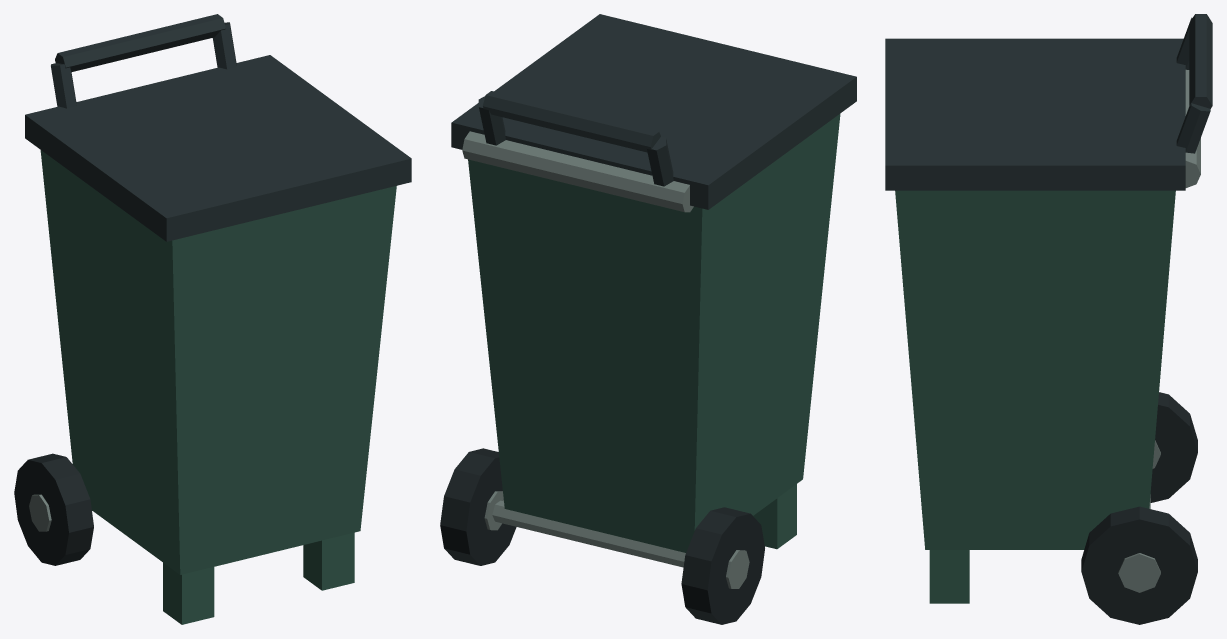
3 views of the same model, side by side, from view 1: azimuth 30°, elevation 25°; view 2: azimuth 150°, elevation 25°; view 3: azimuth 270°, elevation 25° (orthographic). The views are drawn at different scales.
Parts seen in each view (by area): view 1: a45; view 2: a45; view 3: a45.
Boxes of the visible parts, x1,y1,x2,y2 form: a45: [14, 14, 411, 624]; a45: [440, 14, 856, 624]; a45: [885, 14, 1212, 624].
Size of the model in its own units: 0.52 by 0.9065 by 0.534.
